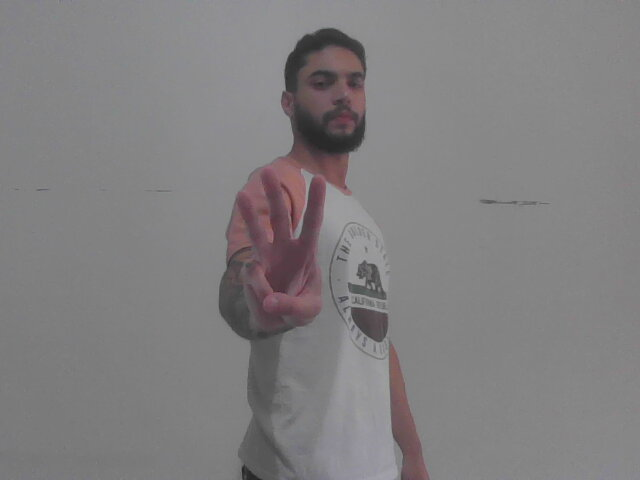w: (231, 164, 332, 334)
